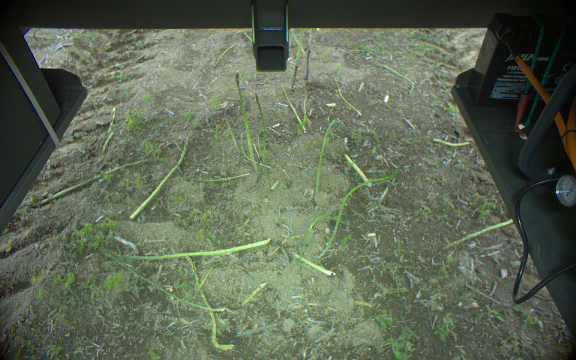aspa: (320, 163, 401, 259), (41, 153, 159, 206), (130, 135, 192, 221), (182, 253, 233, 351), (119, 236, 273, 259), (308, 114, 340, 197), (231, 71, 256, 175), (252, 94, 274, 190), (294, 251, 339, 284), (290, 29, 304, 95), (272, 236, 290, 264), (303, 47, 312, 83)
